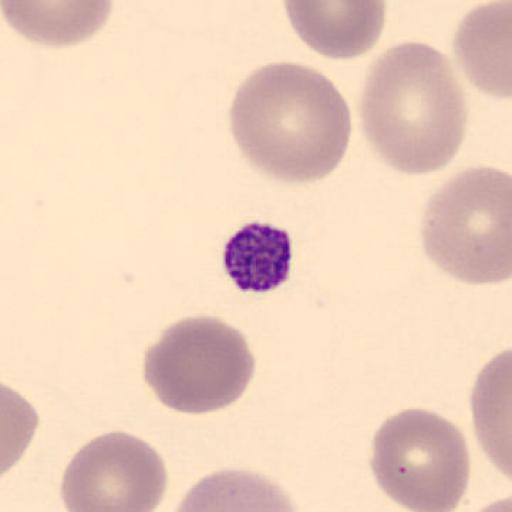Platelet: (219, 219, 296, 296)
RBC: (227, 59, 353, 185), (357, 39, 468, 178), (142, 313, 256, 416), (419, 164, 511, 288), (368, 406, 472, 512), (58, 429, 170, 512), (282, 0, 388, 62), (452, 0, 512, 102), (169, 467, 302, 512), (471, 344, 512, 484), (2, 0, 114, 49), (1, 380, 40, 478), (455, 493, 512, 512)
